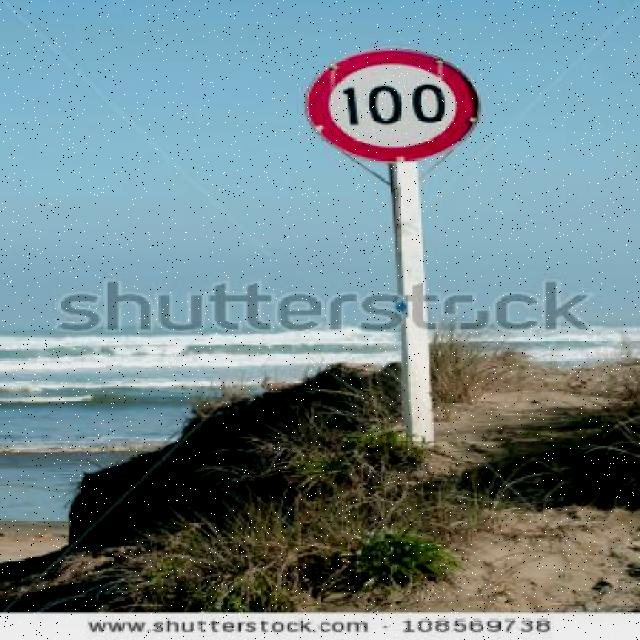Ograniczenie predkosci do 100: (300, 48, 477, 164)
